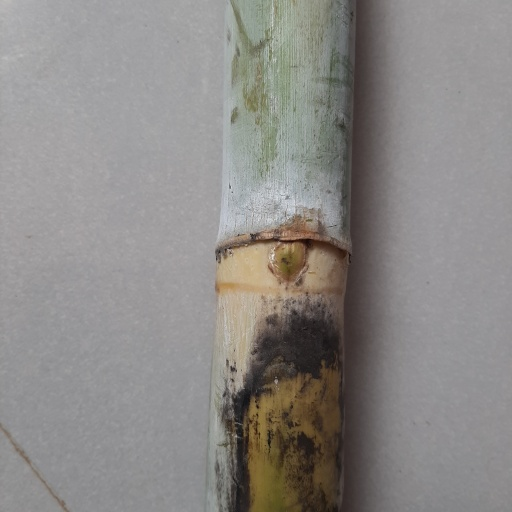Bud: (268, 241, 311, 287)
